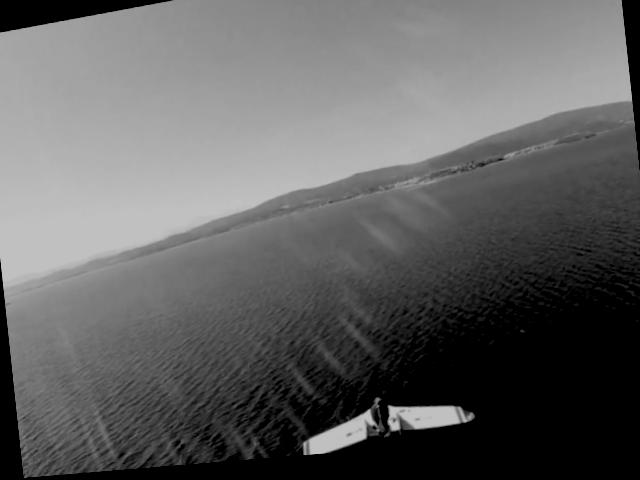hedef: (282, 368, 485, 462)
